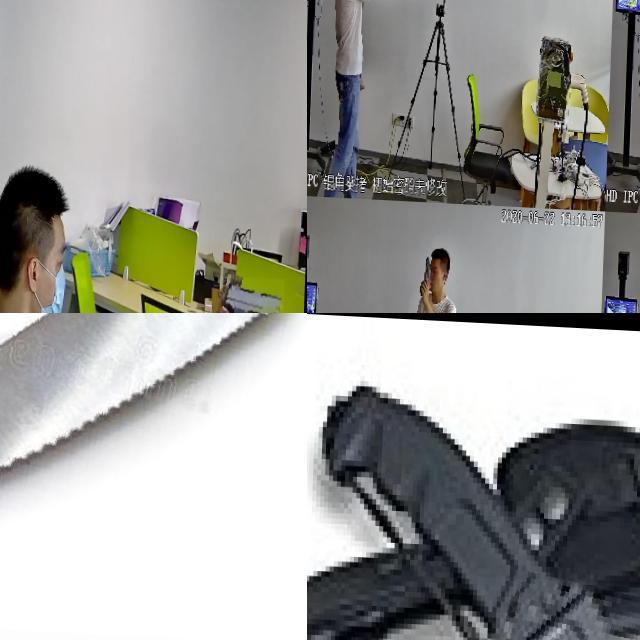-: (0, 313, 307, 640)
gun-knife-thesis - v11 Yolov5 augmented: (213, 269, 287, 313), (422, 250, 435, 293), (406, 0, 435, 17)
